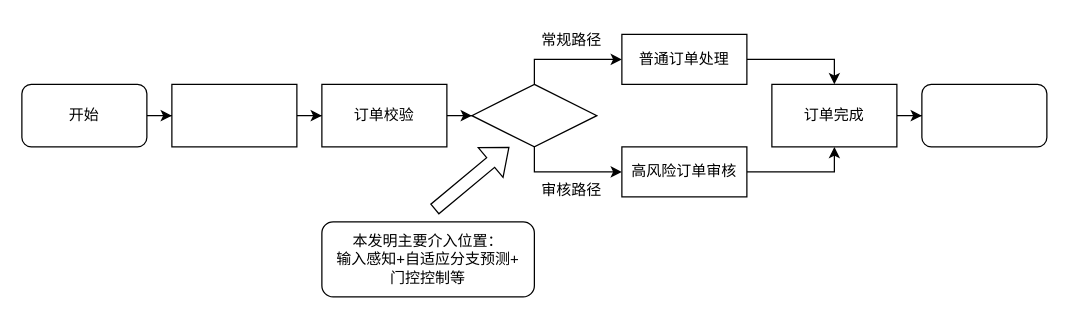
The diagram is 1069 pixels wide and 319 high, and some of its shapes have lost their labels. The centre of each missing label's shape, as x and y in pixels:
分支判定: the point at 534,115
结束: the point at 984,115
订单接收: the point at 234,115
